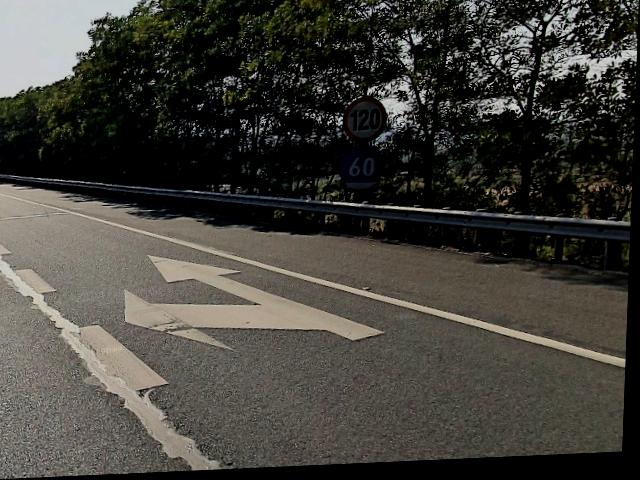limit120: (342, 97, 392, 149)
